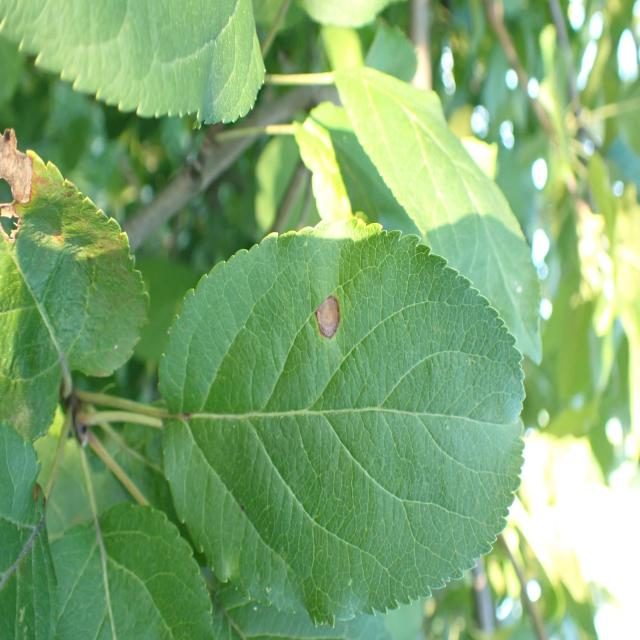Black Rot: (289, 281, 354, 350)
